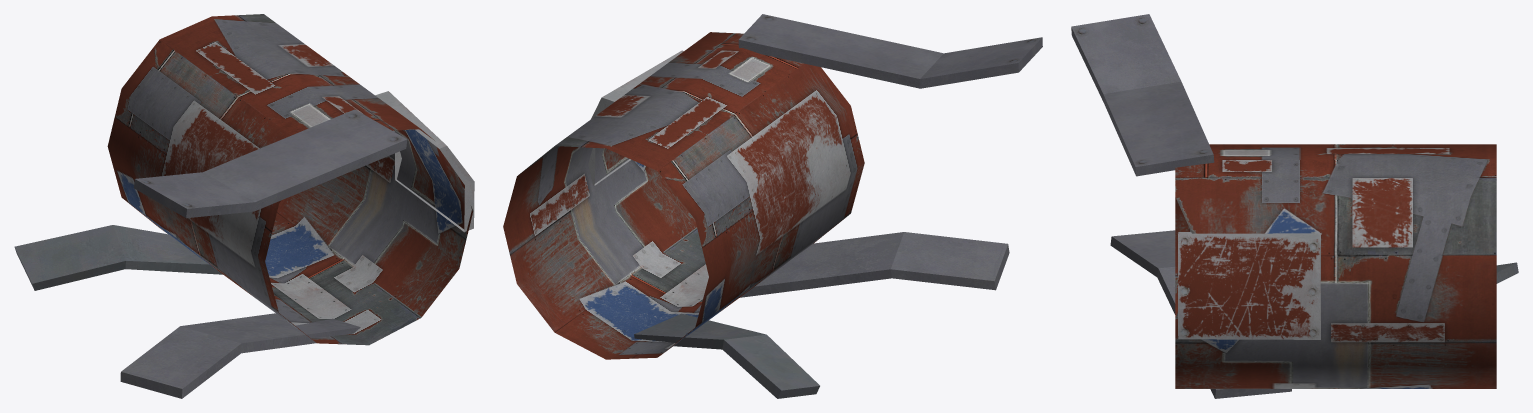
File: HCP2.fbx
3 renders of one model, left to right at view 1: azimuth 30°, elevation 25°; view 2: azimuth 150°, elevation 25°; view 3: azimuth 270°, elevation 25°, orthographic. The views are drawn at different scales.
Visible parts, largest first — view 1: twoD; view 2: twoD; view 3: twoD.
Part boxes in pixels (x1,y1,x2,y2): twoD: (14,14,474,398); twoD: (503,14,1042,398); twoD: (1071,14,1518,398).
Size of the model in its own units: 5617 by 3763 by 5969.
1 material, 1 textured.
